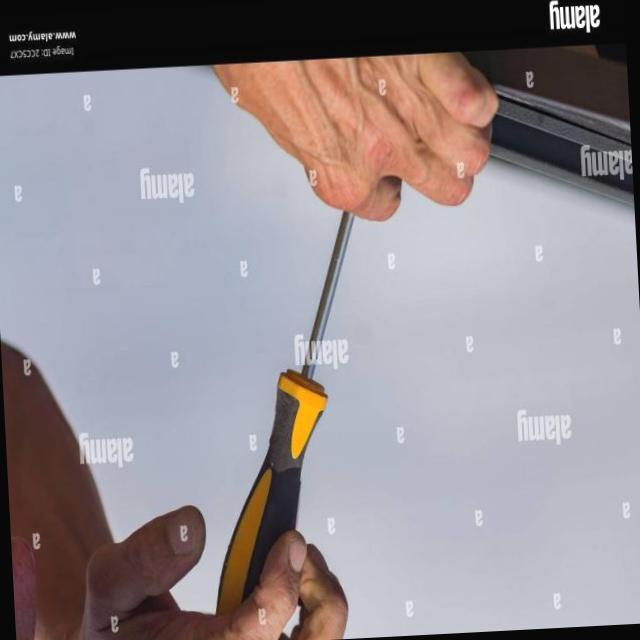screwdriver: (217, 212, 355, 614)
